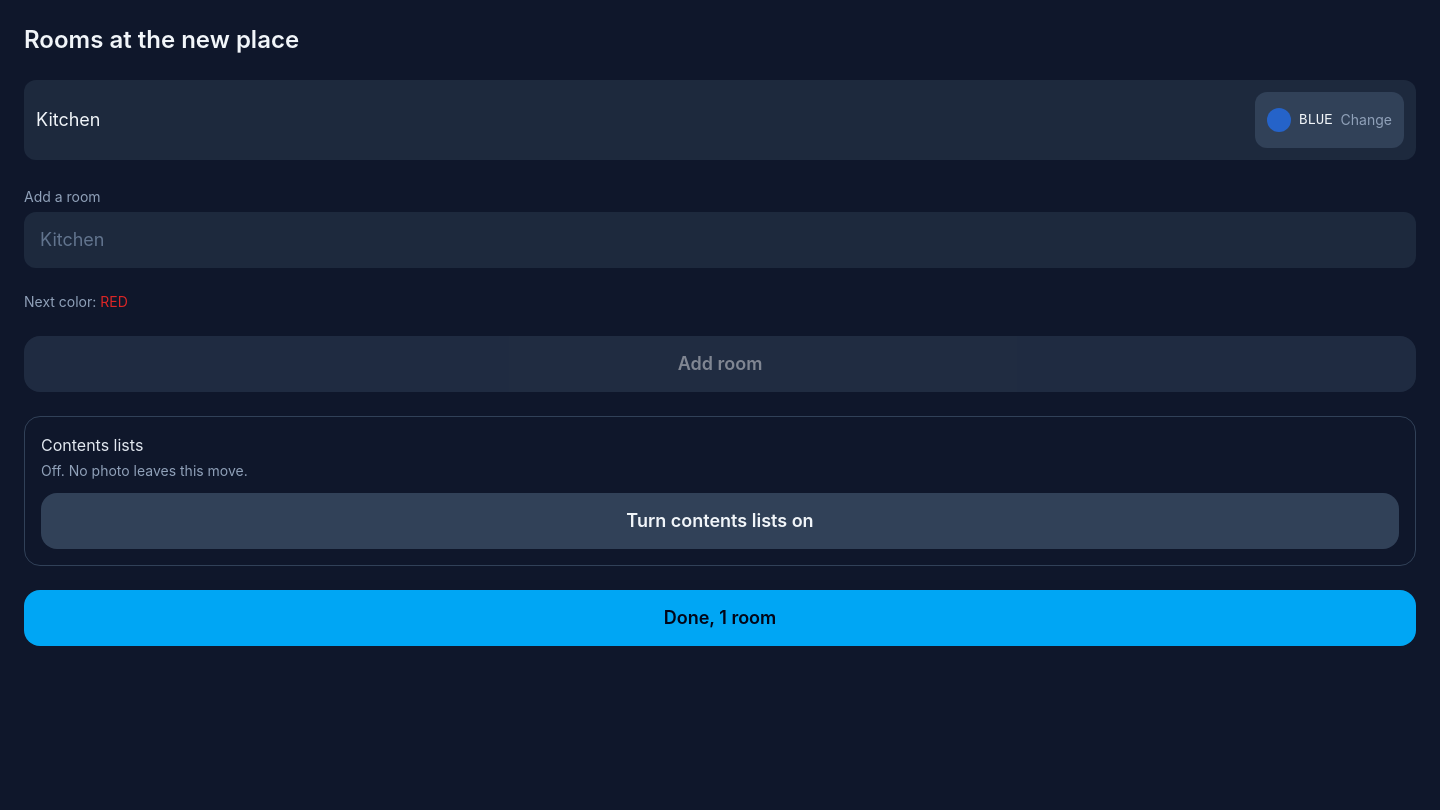
a room's color › closes without changing anything when the color is kept
Click the button "BLUE Change": (1330, 120) [1255,92,1404,148]
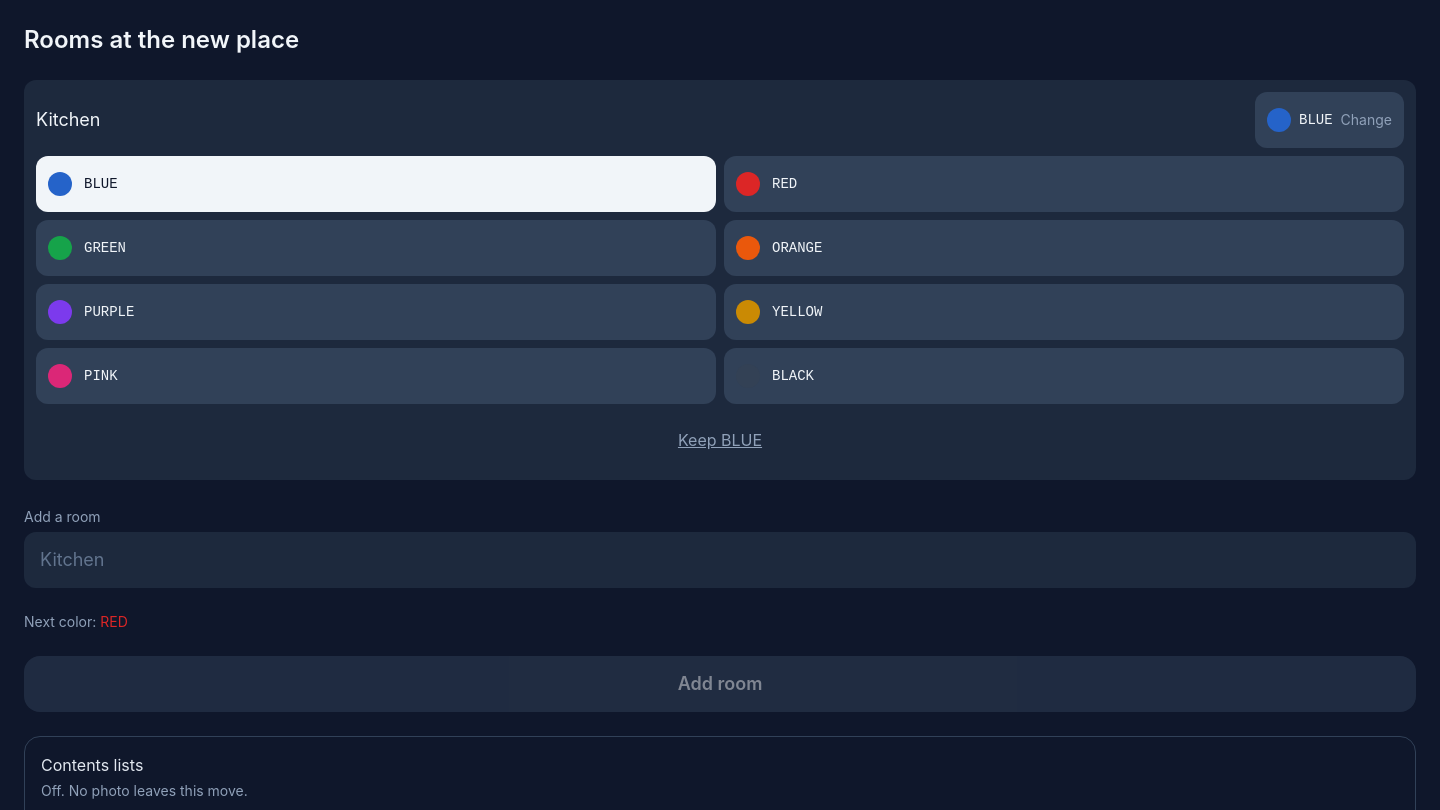
Click the button "Keep BLUE": (720, 440) [36,412,1404,468]
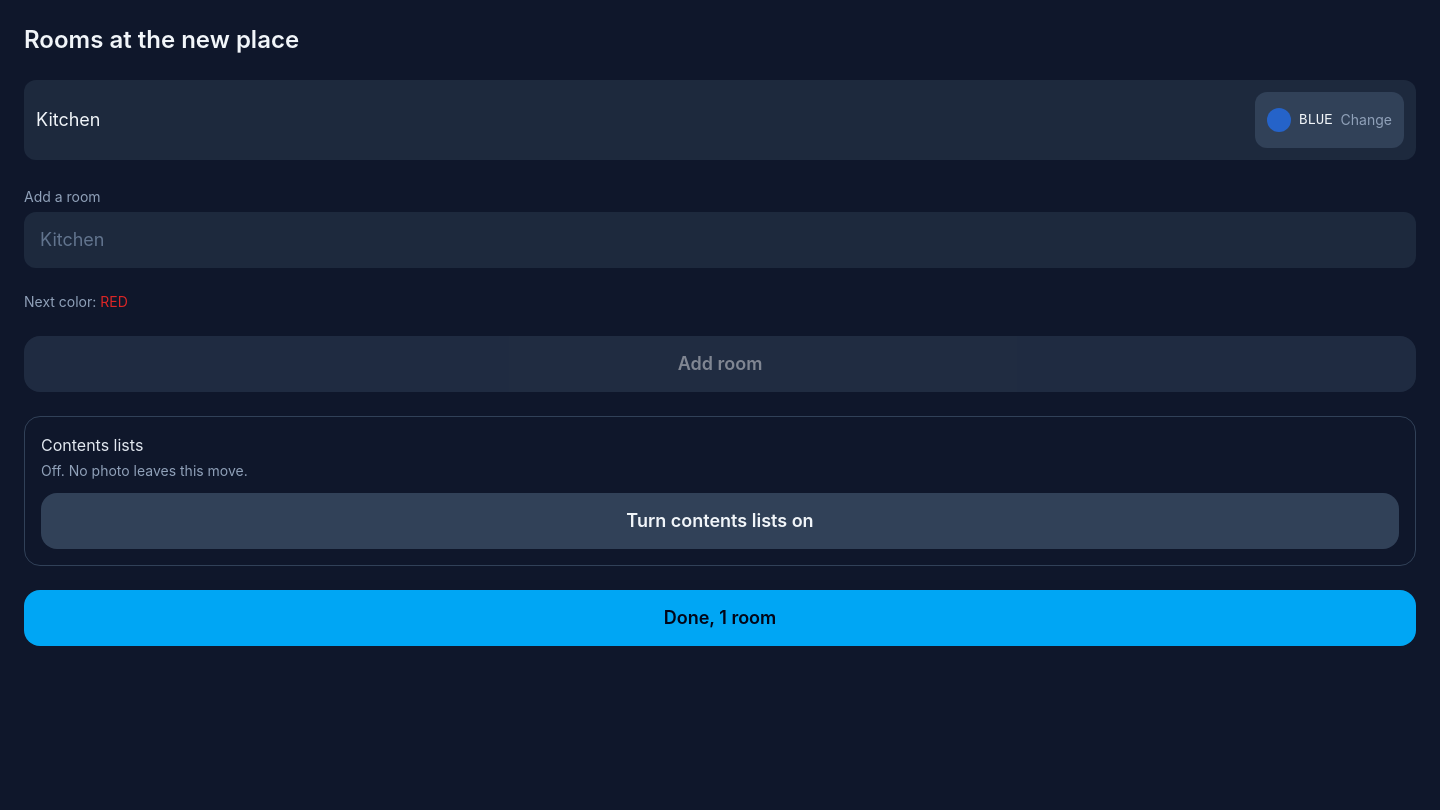
Result: the button "Keep BLUE" is gone
